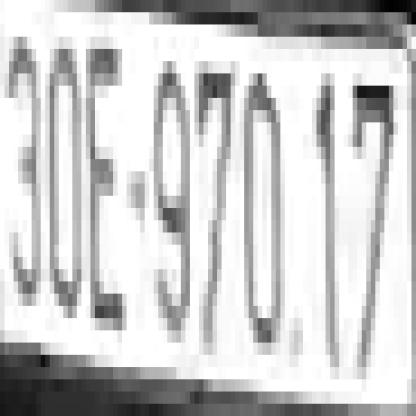0: (240, 85, 285, 342), (45, 49, 86, 306)
1: (298, 86, 344, 354)
3: (9, 36, 45, 294)
7: (349, 86, 394, 354), (195, 74, 235, 330)
9: (150, 61, 194, 343)
E: (86, 37, 127, 318)
